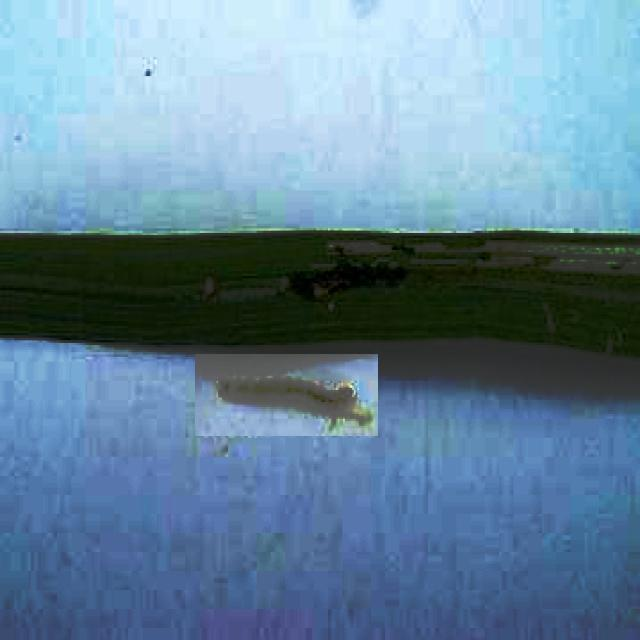leaf-folder: (195, 354, 378, 436)
